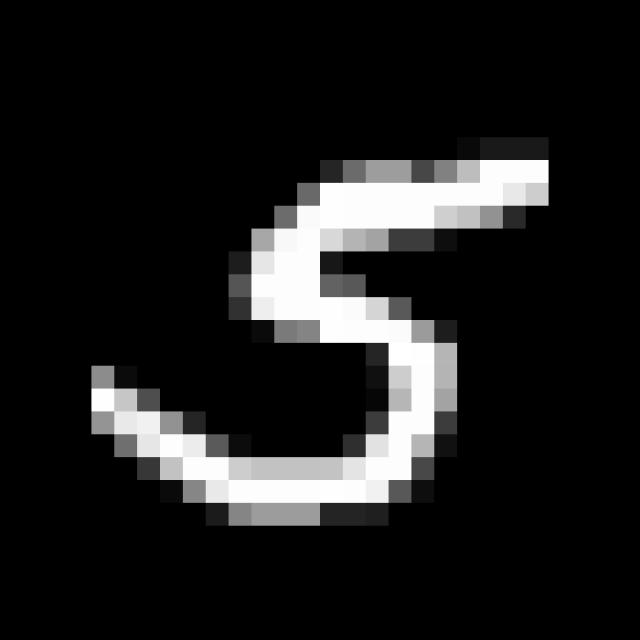five -5-: (80, 151, 562, 538)
